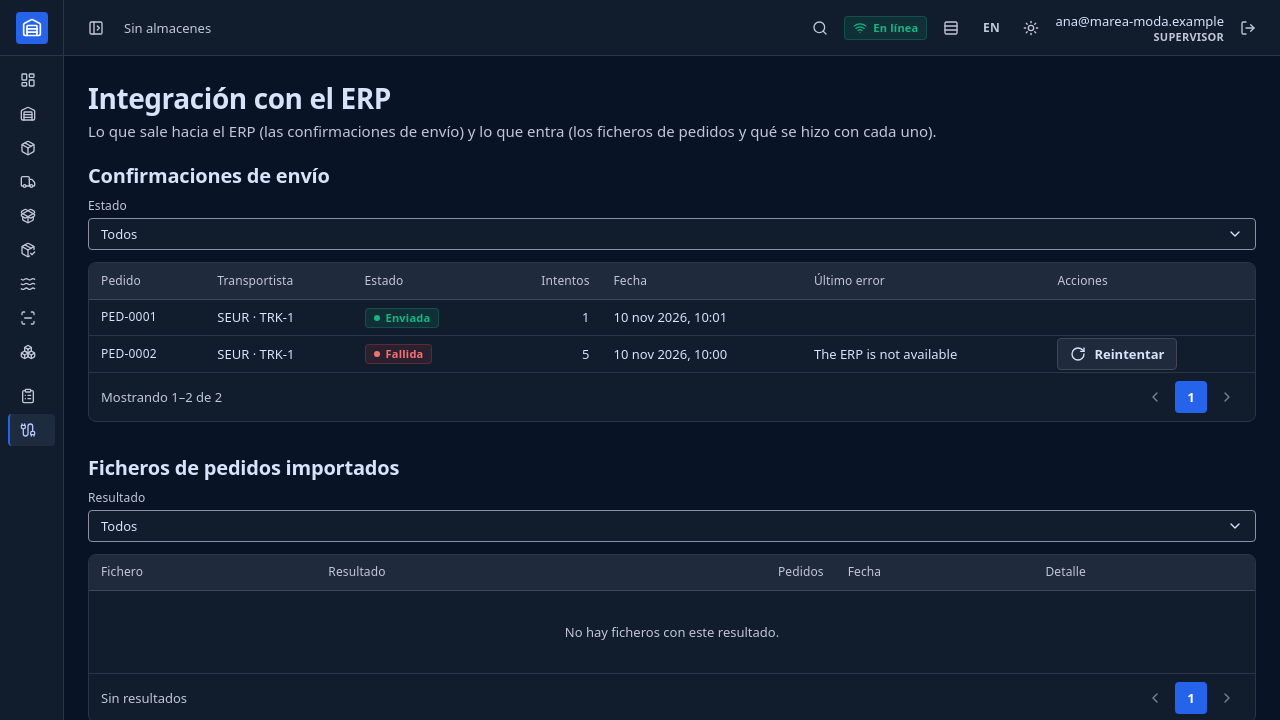
the integration with the ERP › offers to retry only the failed confirmations, and asks the API
The image size is (1280, 720).
Expected: the text "PED-0002" is shown, 89,336 -> 205,372
Click the button with aria-label "Reintentar la confirmación del pedido PED-0002" at (1117, 354), box 1057,338 -> 1177,370
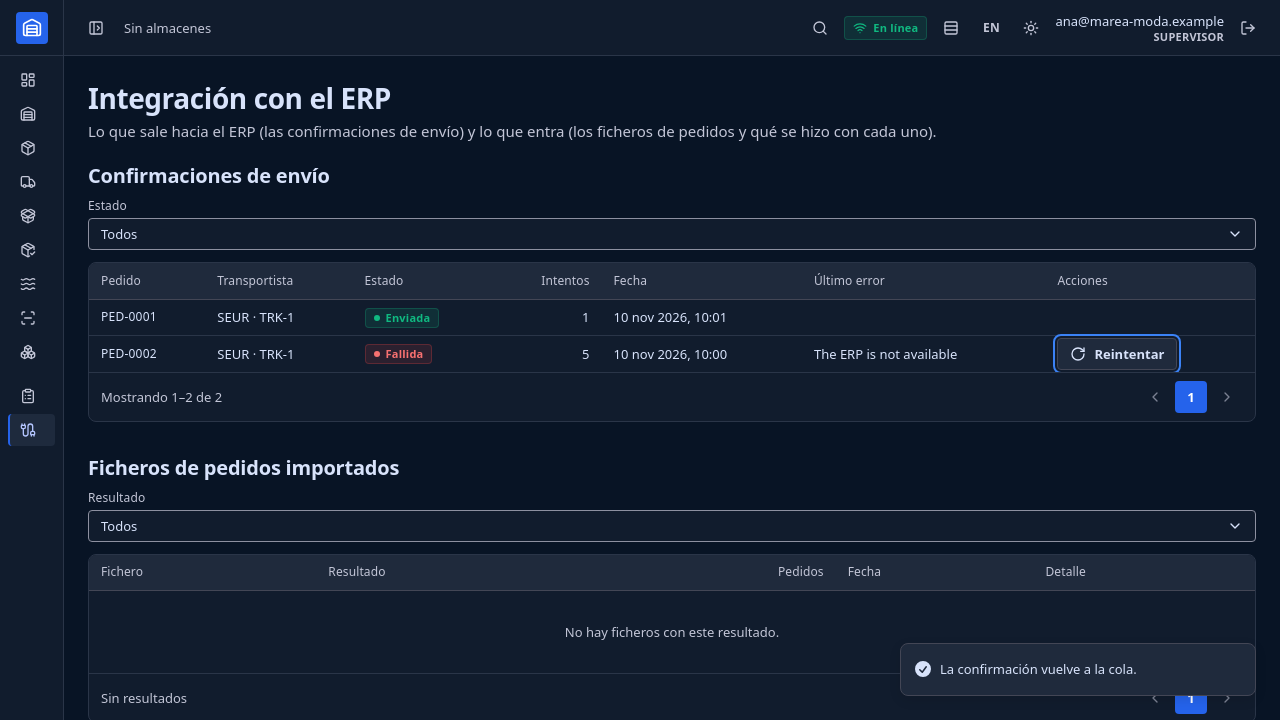
Result: the text "La confirmación vuelve a la cola." is shown at 940,660 -> 1137,679
